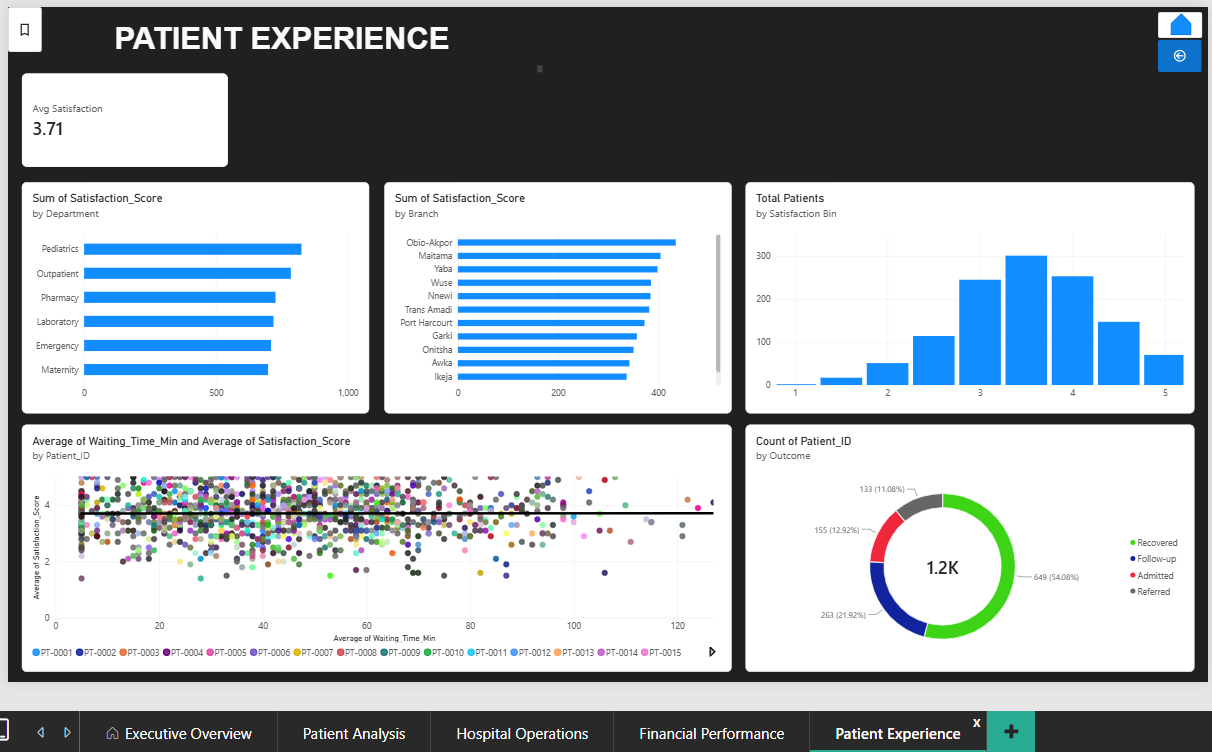

What the dashboard file says about the page in this screenshot:
{"tool":"powerbi","page":{"name":"Patient Experience","canvas":[1920,1080],"ordinal":4},"visuals":[{"type":"textbox","title":"PATIENT EXPERIENCE ","box":[22.5,22.5,832.5,82.5],"z":5000},{"type":"cardVisual","fields":{"Data":["_Measures.Avg Satisfaction"]},"box":[22.5,105,330,150],"z":6000},{"type":"barChart","fields":{"Category":["Fact_Visits.Department"],"Y":["Sum(Fact_Visits.Satisfaction_Score)"]},"box":[22,280,556,370],"z":7000},{"type":"barChart","fields":{"Category":["Fact_Visits.Branch"],"Y":["Sum(Fact_Visits.Satisfaction_Score)"]},"box":[602,280,556,370],"z":8000},{"type":"scatterChart","fields":{"Series":["Fact_Visits.Patient_ID"],"X":["Avg(Fact_Visits.Waiting_Time_Min)"],"Y":["Avg(Fact_Visits.Satisfaction_Score)"]},"box":[22,668,1136,396],"z":9000},{"type":"clusteredColumnChart","fields":{"Category":["Fact_Visits.Satisfaction Bin"],"Y":["_Measures.Total Patients"]},"box":[1180,280,718,370],"z":10000},{"type":"donutChart","fields":{"Category":["Fact_Visits.Outcome"],"Y":["CountNonNull(Fact_Visits.Patient_ID)"]},"box":[1180,668,718,396],"z":11000},{"type":"actionButton","box":[1840.9,8.2,70.9,41.8],"z":11001},{"type":"actionButton","box":[0,0,54,72],"z":11002},{"type":"actionButton","box":[1840,52.5,70,52.5],"z":11004},{"type":"shape","box":[1859.1,10.9,33.6,35.5],"z":11005}]}

Visuals, with their boxes in screenshot pixels (x1, y1, x2, y2):
"PATIENT EXPERIENCE " textbox: 20 20 539 72
cardVisual - _Measures.Avg Satisfaction: 20 72 226 165
barChart - Fact_Visits.Department x Sum(Fact_Visits.Satisfaction_Score): 20 181 366 411
barChart - Fact_Visits.Branch x Sum(Fact_Visits.Satisfaction_Score): 381 181 727 411
scatterChart - Fact_Visits.Patient_ID x Avg(Fact_Visits.Waiting_Time_Min): 20 422 727 669
clusteredColumnChart - Fact_Visits.Satisfaction Bin x _Measures.Total Patients: 741 181 1188 411
donutChart - Fact_Visits.Outcome x CountNonNull(Fact_Visits.Patient_ID): 741 422 1188 669
actionButton: 1152 11 1196 37
actionButton: 6 6 40 51
actionButton: 1152 39 1195 72
shape: 1164 13 1185 35
